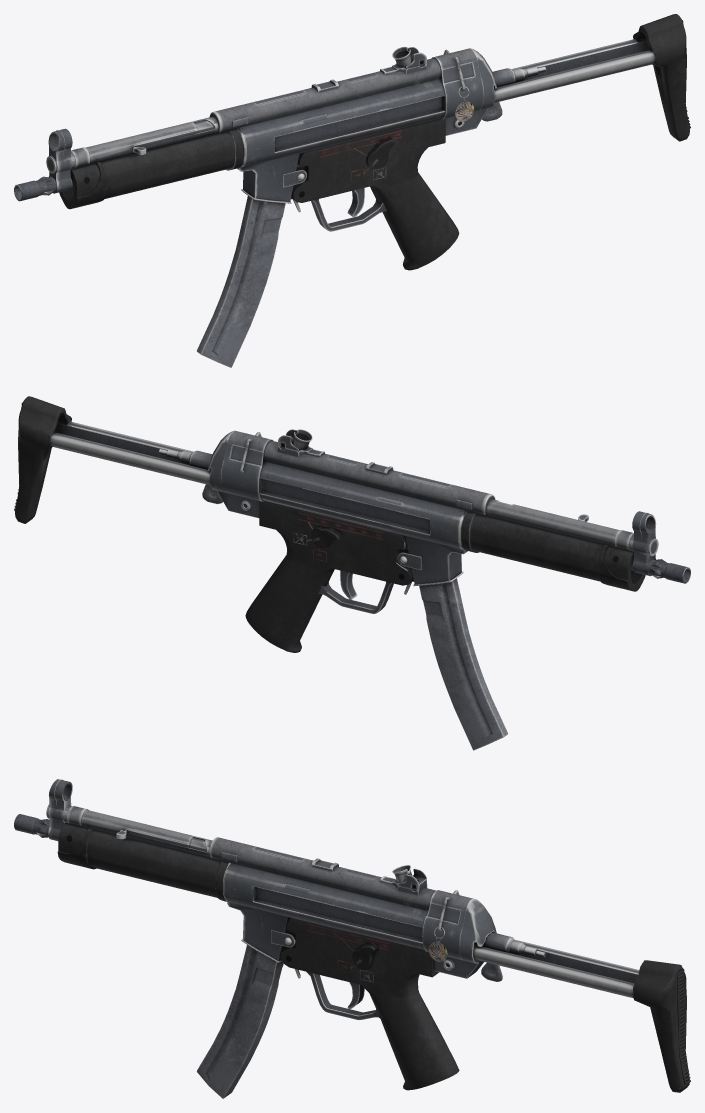
3 views of the same model, one above another, from view 1: azimuth 30°, elevation 25°; view 2: azimuth 150°, elevation 25°; view 3: azimuth 330°, elevation 25° (orthographic).
Visible parts, largest first — view 1: MP5_low, Handle_low, Fron1_low, Front_low; view 2: MP5_low, Handle_low, Fron1_low, Front_low; view 3: MP5_low, Handle_low, Fron1_low, Front_low.
Boxes of the visible parts, x1,y1,x2,y2 form: MP5_low: (46, 14, 690, 367); Handle_low: (291, 118, 459, 270); Fron1_low: (48, 128, 72, 193); Front_low: (14, 176, 73, 201); MP5_low: (14, 396, 658, 750); Handle_low: (245, 501, 413, 652); Fron1_low: (632, 511, 656, 576); Front_low: (631, 559, 690, 583); MP5_low: (46, 779, 690, 1098); Handle_low: (280, 918, 459, 1090); Fron1_low: (48, 779, 72, 840); Front_low: (14, 814, 49, 837).
Size of the model in its own units: 264 by 103 by 18.34.
2 materials, 2 textured.
